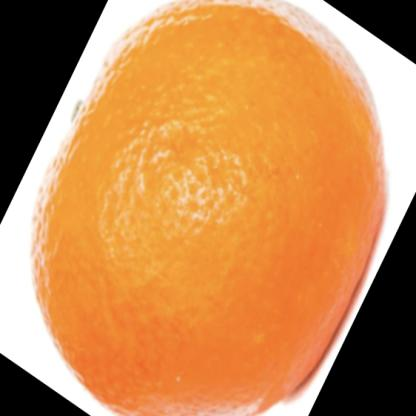fresh: (36, 6, 384, 416)
